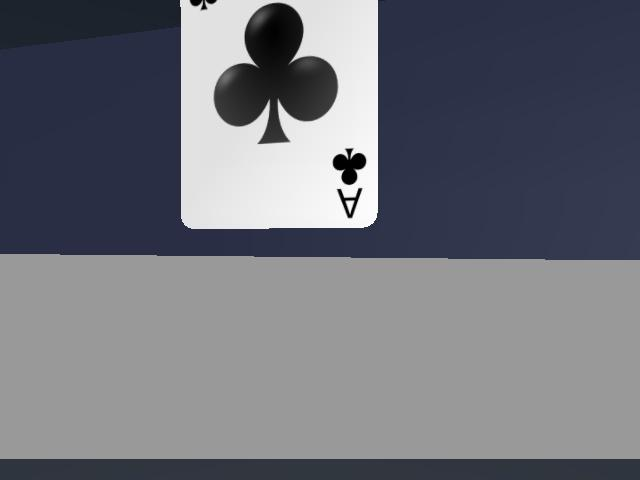club: (181, 0, 377, 228)
